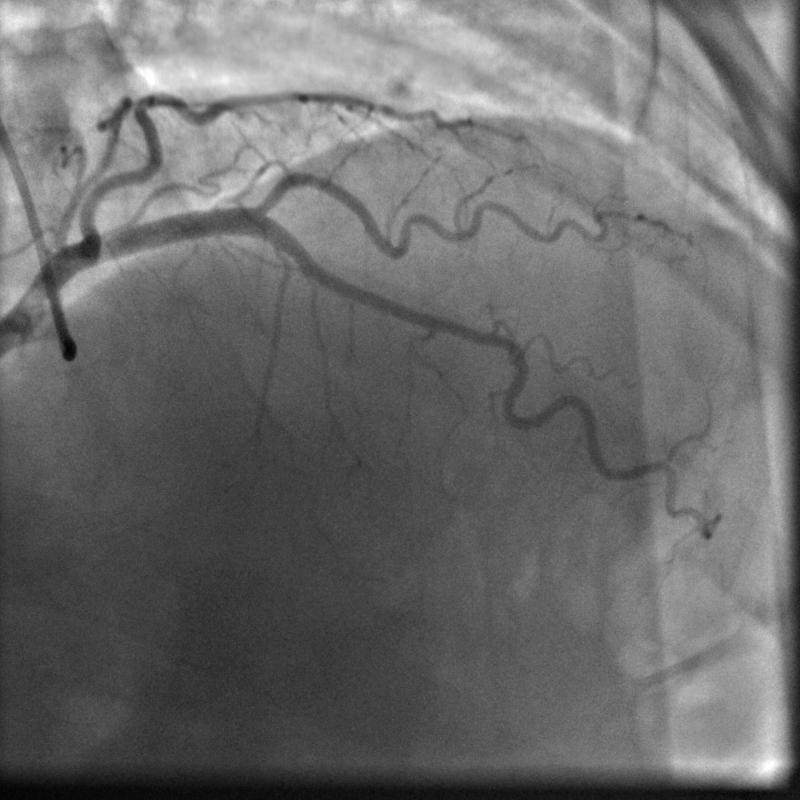Stenosis: (449, 318, 517, 358)
